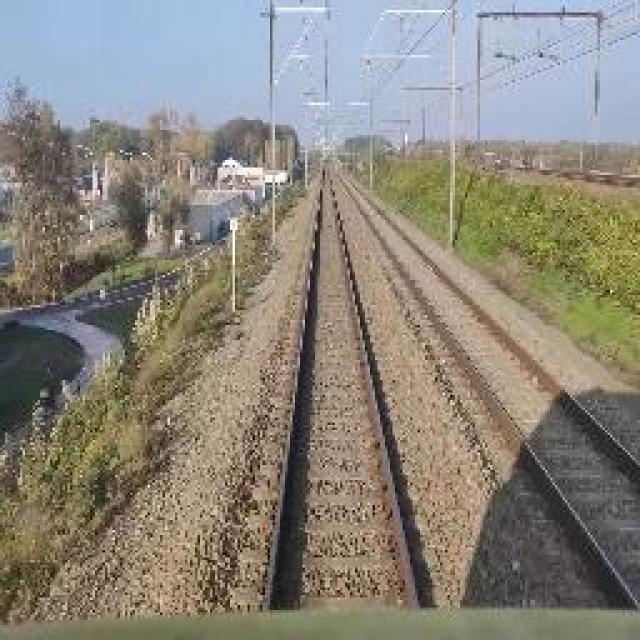rail: (238, 164, 444, 615)
